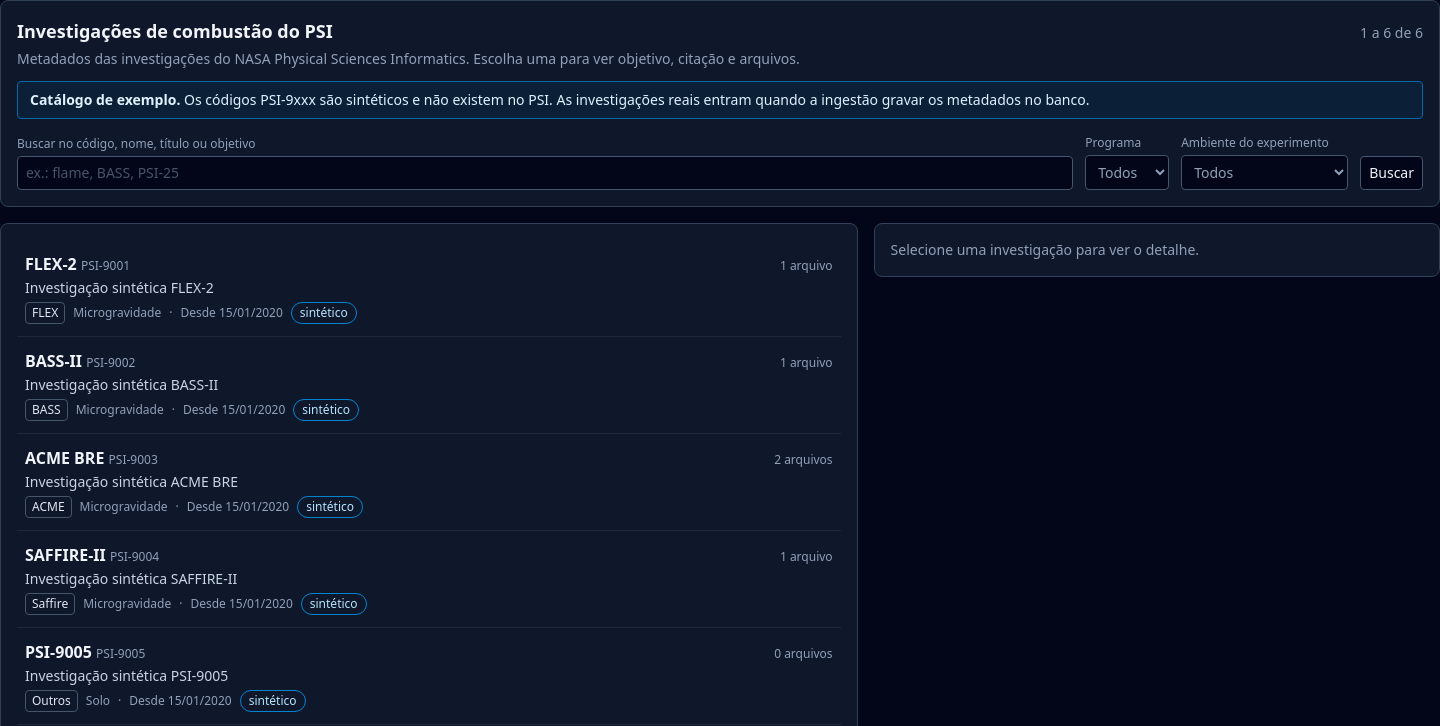
Test: InvestigationsCatalog › filtra por programa e volta para a lista completa ao limpar
This screenshot has width=1440, height=726.
Expected: the text "1 a 6 de 6" is shown, x1=1360 y1=23 x2=1423 y2=43
Select "FLEX" in the dropdown labelled "Programa": (1127, 172) x1=1085 y1=155 x2=1169 y2=190
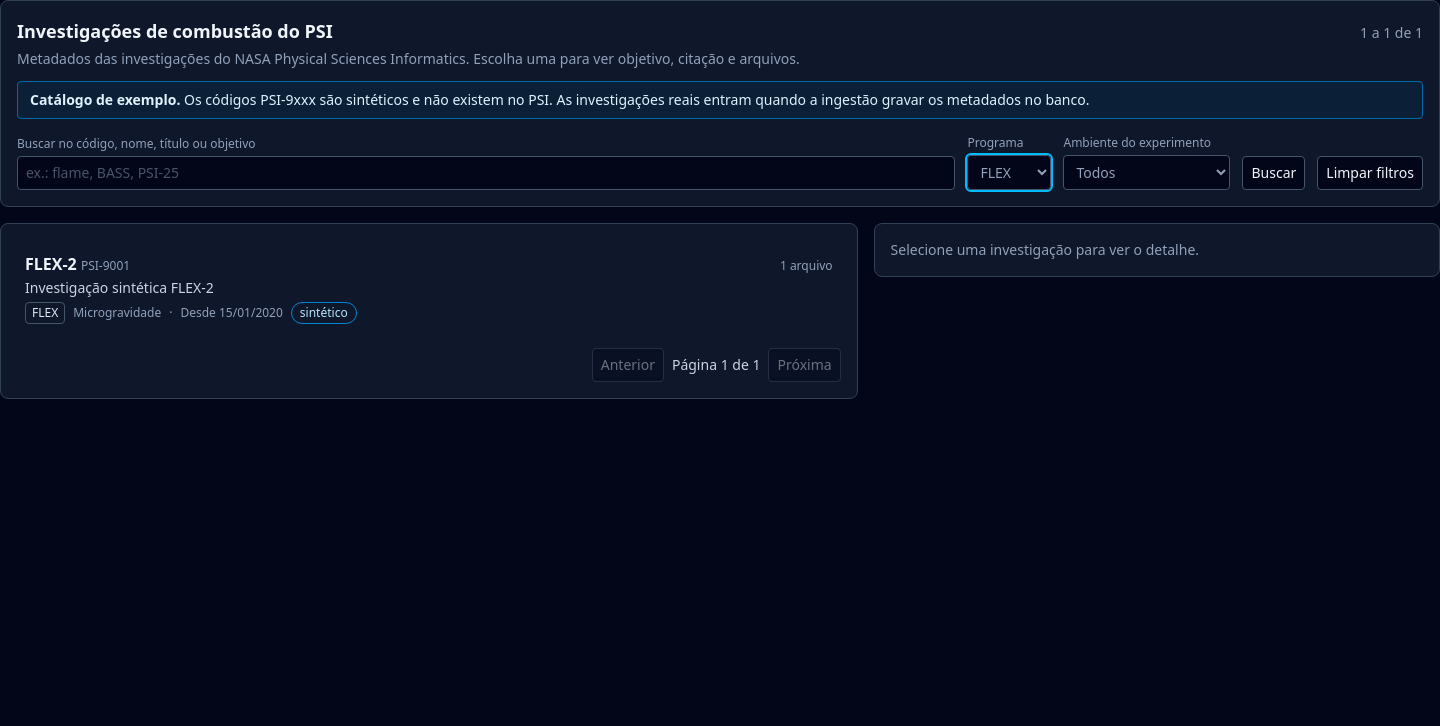
Expected: the text "FLEX-2" is shown, x1=25 y1=253 x2=77 y2=275
Expected: the text "1 a 1 de 1" is shown, x1=1360 y1=23 x2=1423 y2=43
Click the button "Limpar filtros": click(1370, 173) x1=1317 y1=156 x2=1423 y2=190
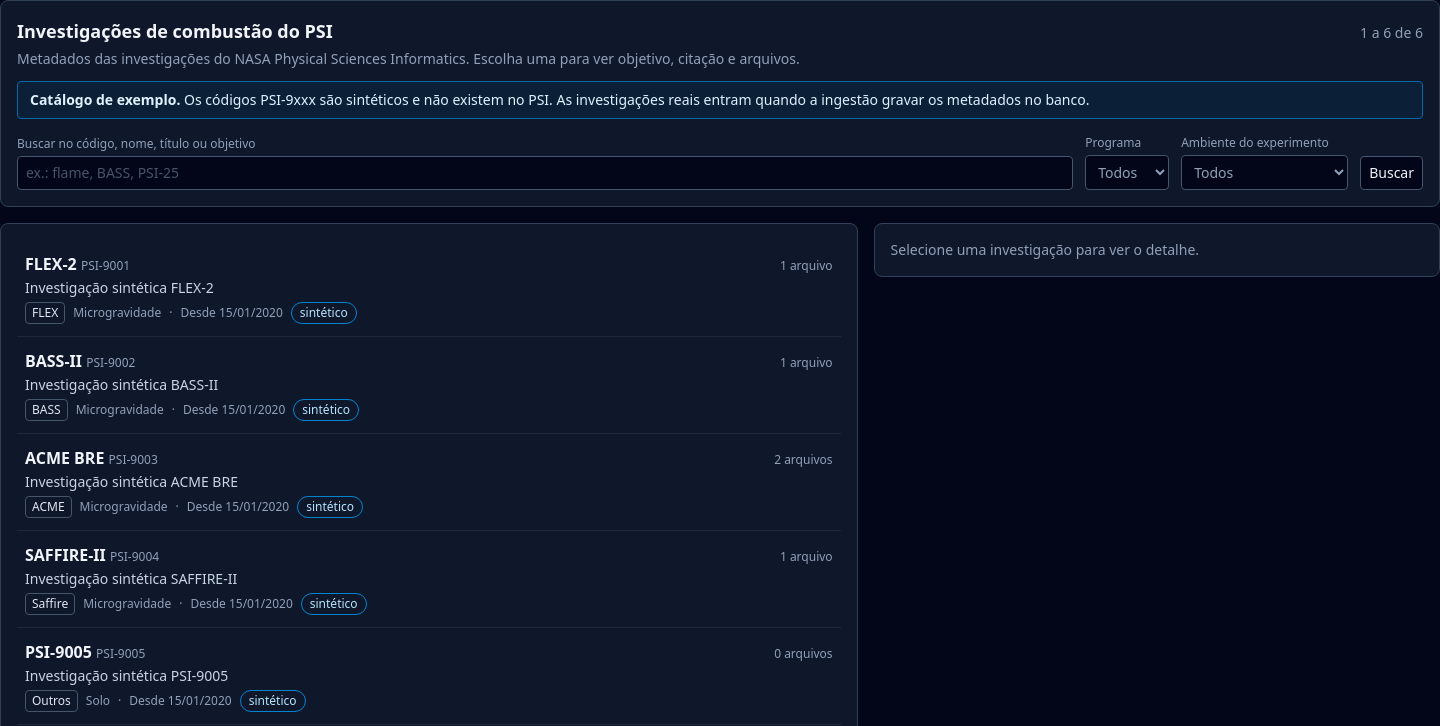
Expected: the text "1 a 6 de 6" is shown, x1=1360 y1=23 x2=1423 y2=43
